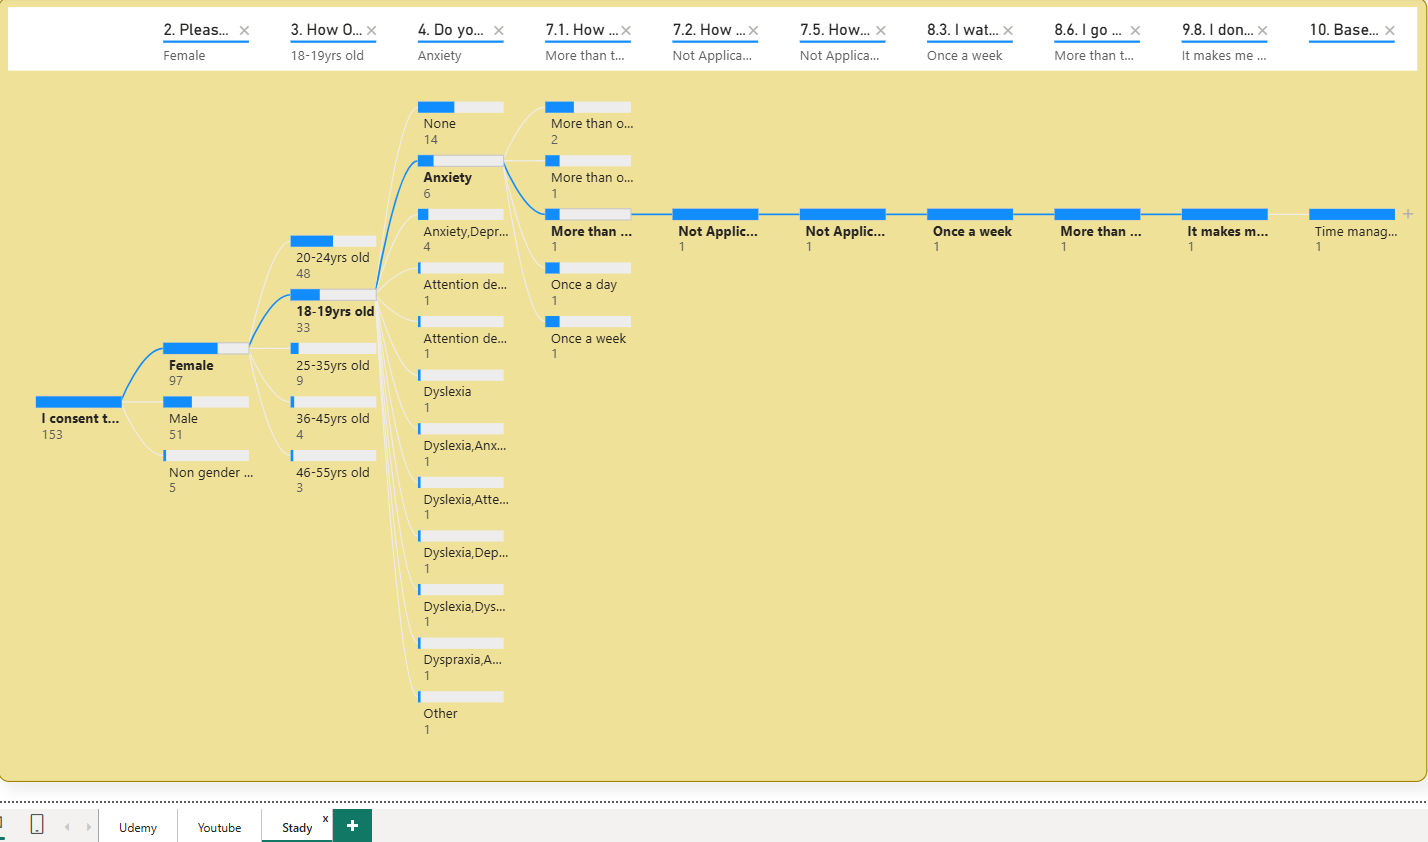

The dashboard page shown, as its layout file describes it:
{"tool":"powerbi","page":{"name":"Stady","canvas":[1280,720],"ordinal":2},"visuals":[{"type":"decompositionTreeVisual","fields":{"ExplainBy":["original.2. Please describe your gender?","original.3. How Old are you? Please choose one of the following:","original.4. Do you have any of the following conditions? Please choose any of the following:","original.7.1. How often do you put off literature review, reading?","original.7.2. How often do you put off brand analysis and real-world deconstruction?","original.7.5. How often do you put off Ideation?","original.8.3. I watch TV or Online films","original.8.6. I go out and socialise","original.9.8. I don't understand why I should do the task","comments.10. Based on your experience of procrastination when designing, please tell us what you feel is the most import","original.5. What is your current role?","original.4.a. If you selected Other, please specify the condition:"],"Analyze":["CountNonNull(original.1. I consent to take part in the study)"]},"box":[0,0,1280,703.3],"z":0}]}

Visuals, with their boxes on the page's 1280x720 design canvas (x1, y1, x2, y2). These are canvas units, not pixel positions in the 1428x842 screenshot, which may show the page scaled, cropped or inside an application window:
decompositionTreeVisual - original.2. Please describe your gender? x original.3. How Old are you? Please choose one of the following:: box=[0, 0, 1280, 703]
